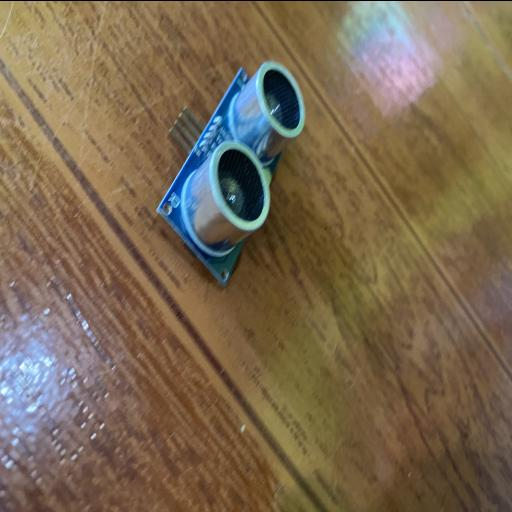Ultrasonic Sensor: (154, 58, 306, 288)
